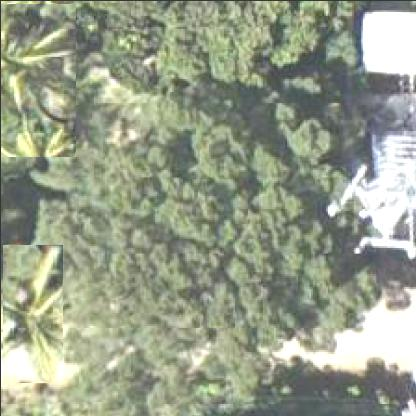coconut tree: (1, 1, 76, 156), (2, 243, 63, 382)
